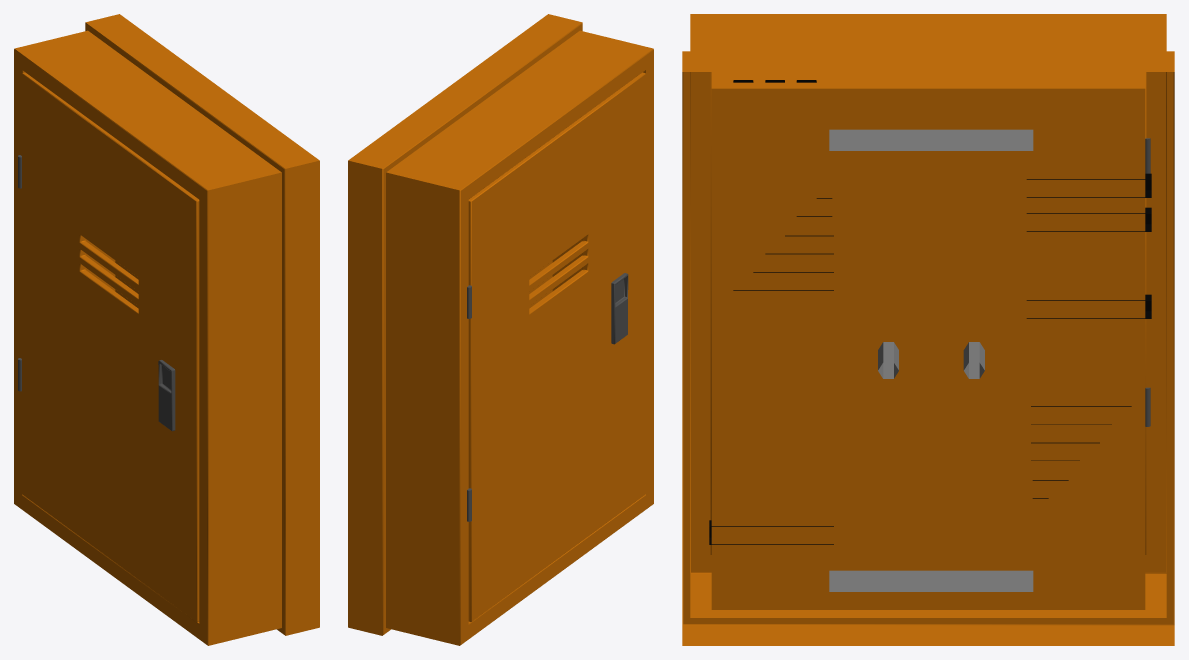
The model's file is Power_Panel.fbx.
3 views of the same model, side by side, from view 1: azimuth 30°, elevation 25°; view 2: azimuth 150°, elevation 25°; view 3: azimuth 270°, elevation 25° (orthographic). The views are drawn at different scales.
Visible parts, largest first — view 1: Power Box, Power Box Door; view 2: Power Box, Power Box Door; view 3: Power Box, Lever.
Boxes of the visible parts, box(x1,y1,x2,y2) form: Power Box: box(14, 14, 319, 645); Power Box Door: box(22, 72, 199, 621); Power Box: box(348, 14, 653, 645); Power Box Door: box(468, 72, 645, 621); Power Box: box(682, 14, 1174, 645); Lever: box(878, 342, 984, 378).
Size of the model in its own units: 0.5366 by 1.39 by 1.79.
